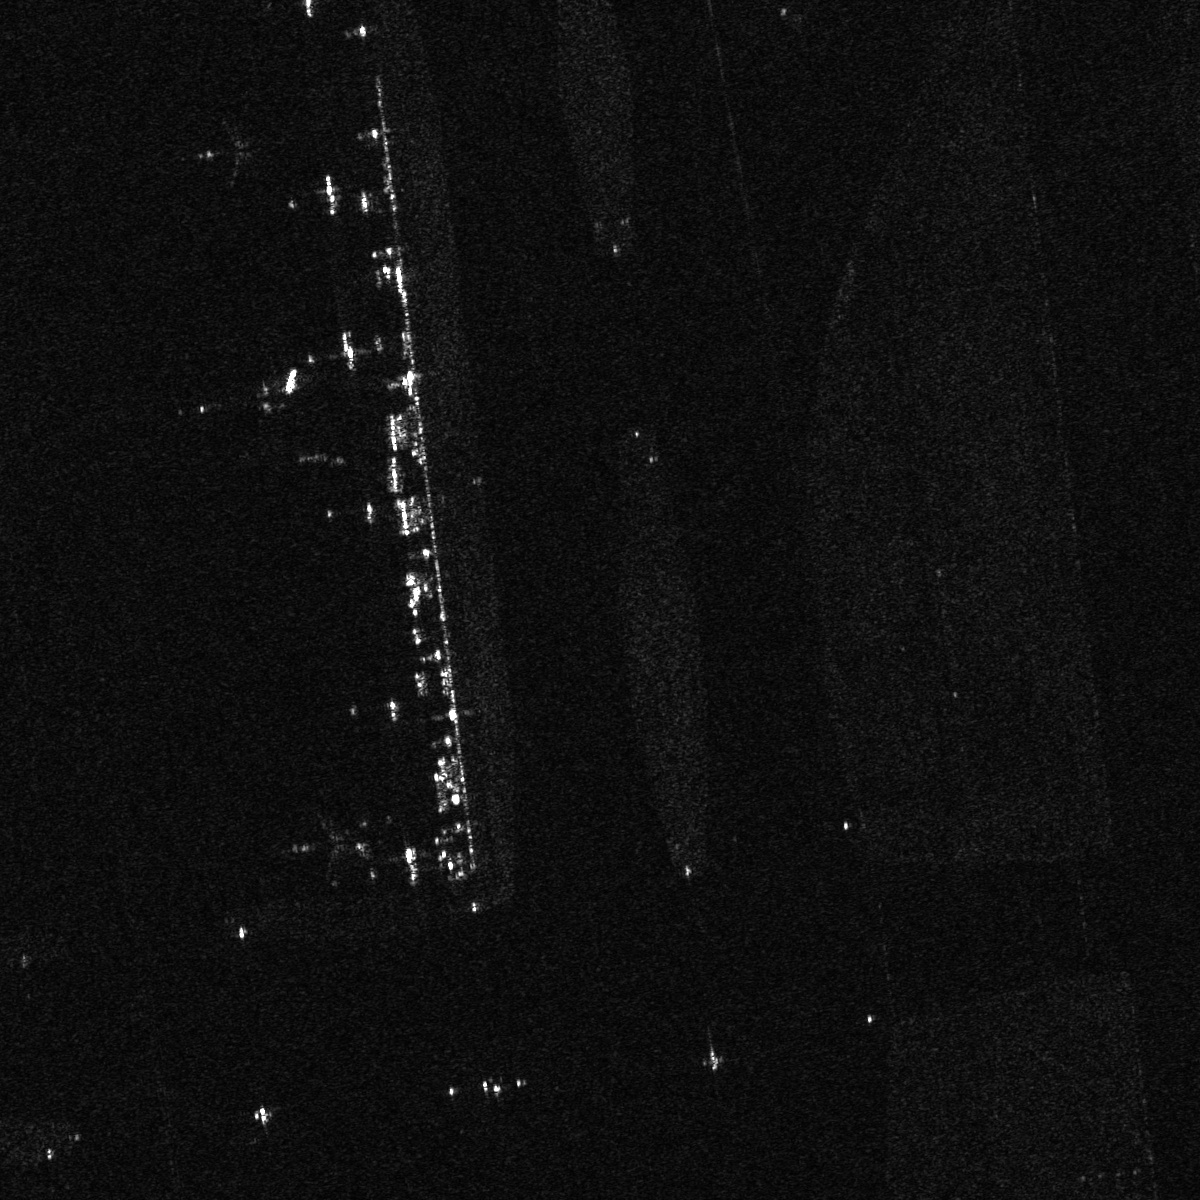Boeing737: (184, 113, 264, 195)
Boeing787: (284, 809, 370, 890)
